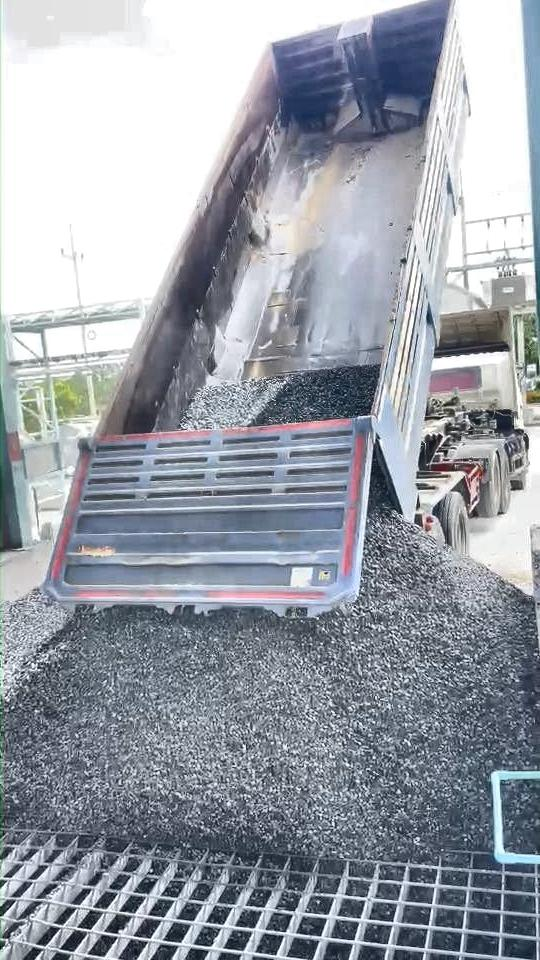gravel: (5, 483, 540, 858), (179, 366, 379, 428), (502, 779, 540, 852)
